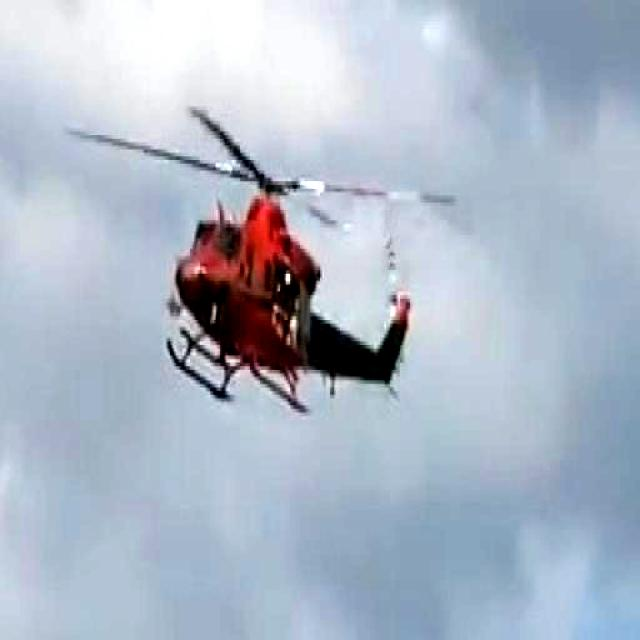drone: (128, 84, 465, 438)
